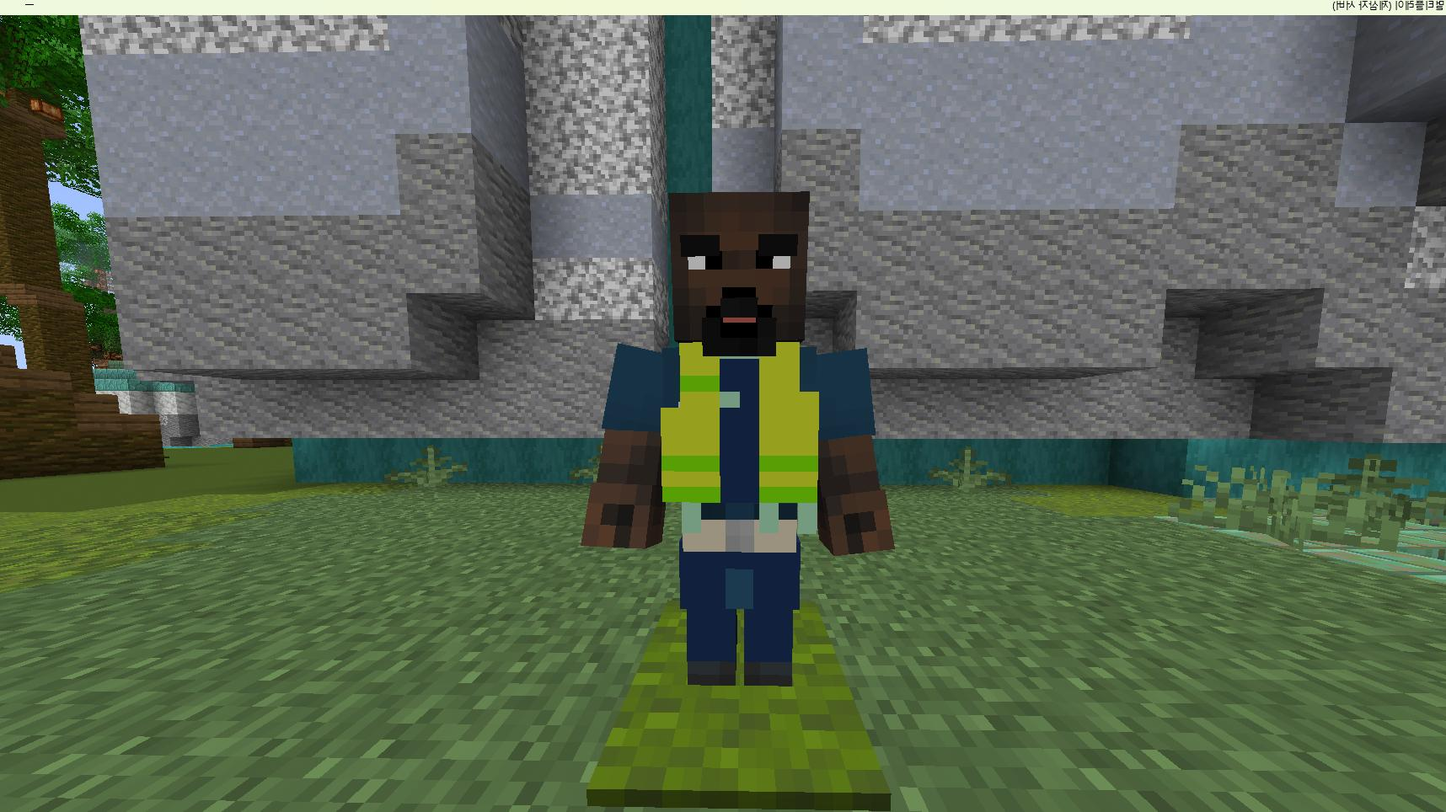Guardian: (582, 192, 894, 686)
